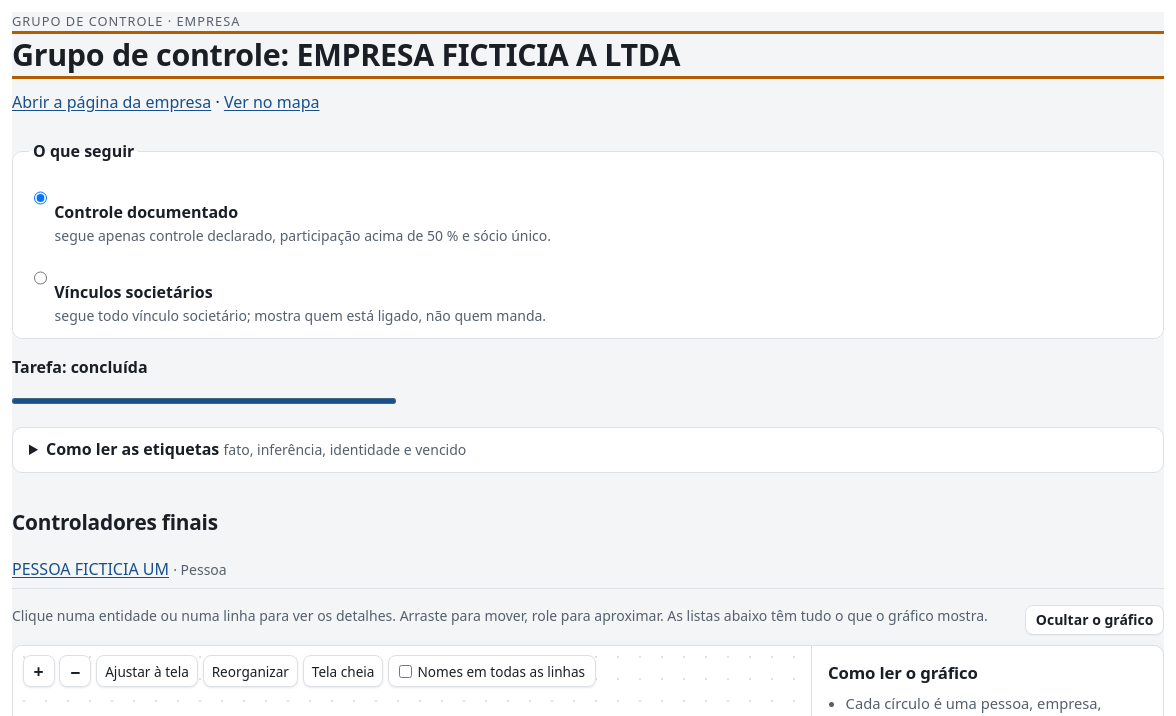
Scenario: ControlGroupPage › grupo: alterna entre "Controle documentado" e "Vínculos societários" e reenvia a tarefa
This screenshot has width=1176, height=716.
Later steps or results of the test are not shown.
expect the element "Controladores finais" is shown: met, box [12,509,1164,589]
expect the radio button labelled "Controle documentado" is checked: met, box [34,178,47,218]
What coordinates should you click on to do the following:
click the radio button labelled "Vínculos societários"
I would click on:
 (40, 278)
Its box is [34,258,47,298].
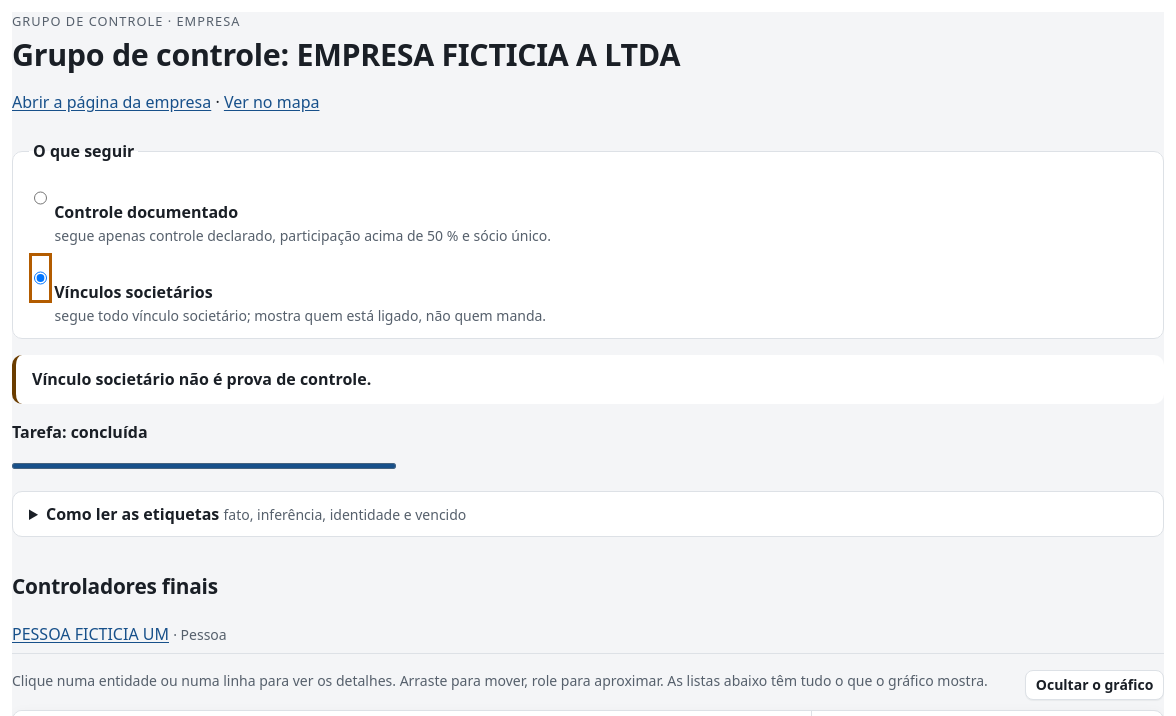
expect the text "segue todo vínculo societário; mostra quem está ligado, não quem manda" is shown: met, box [55,306,546,325]
expect the text "Vínculo societário não é prova de controle." is shown: met, box [32,368,371,390]
